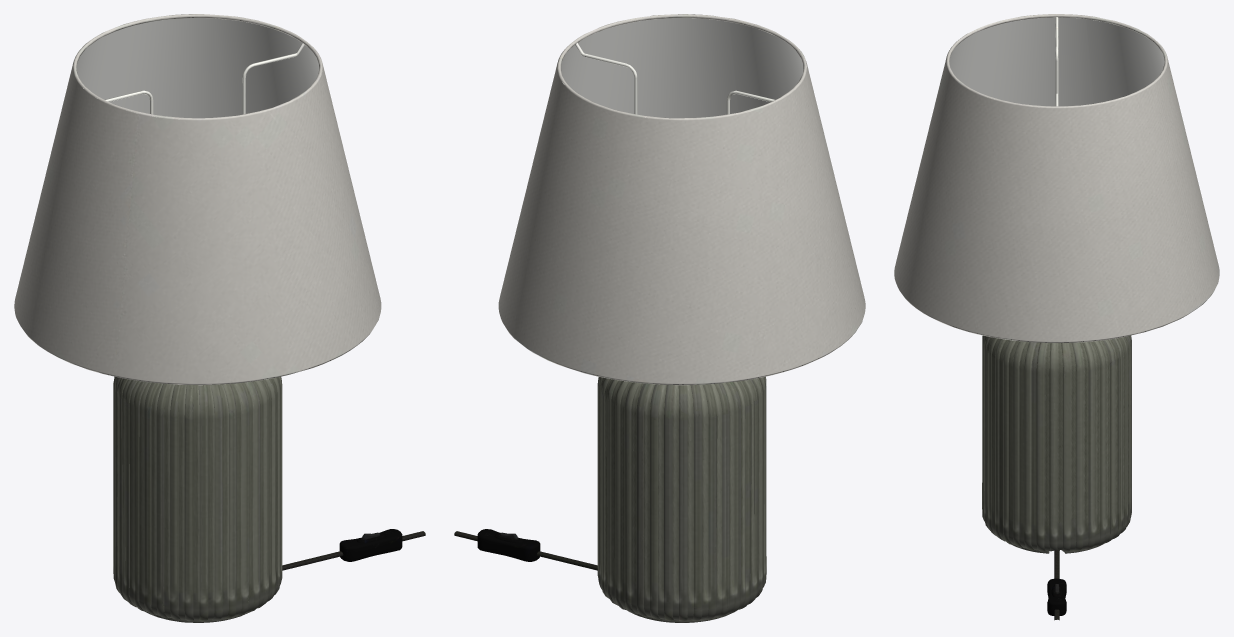
The model's file is snobyar_lampa_stoowa_50450401.glb.
3 renders of one model, left to right at view 1: azimuth 30°, elevation 25°; view 2: azimuth 150°, elevation 25°; view 3: azimuth 270°, elevation 25°, orthographic. The views are drawn at different scales.
Parts seen in each view (by area): view 1: snobyar_lampa_stoowa_50450401; view 2: snobyar_lampa_stoowa_50450401; view 3: snobyar_lampa_stoowa_50450401.
Part boxes in pixels (box(x1,y1,x2,y2)): snobyar_lampa_stoowa_50450401: box(14, 14, 425, 622); snobyar_lampa_stoowa_50450401: box(454, 14, 865, 622); snobyar_lampa_stoowa_50450401: box(894, 14, 1219, 620).
Size of the model in its own units: 0.4 by 0.5252 by 0.3301.
Materials: 1 (1 with a texture image).
